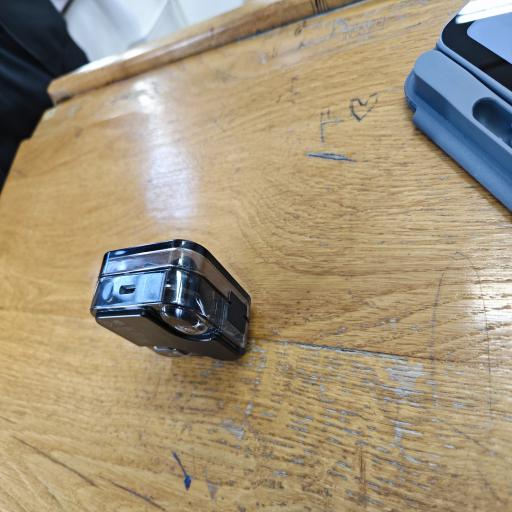CASTI: (86, 230, 258, 366)
